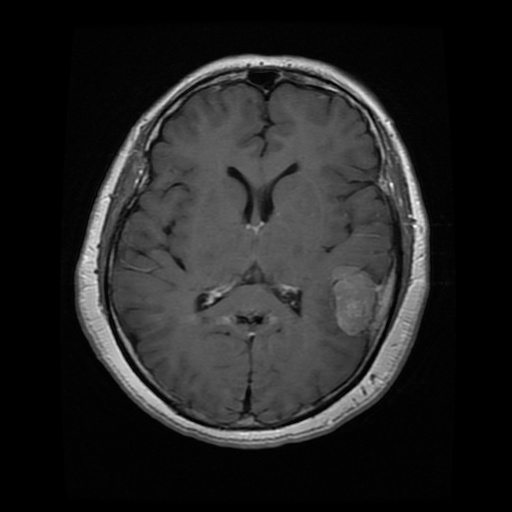meningioma: (332, 264, 376, 336)
